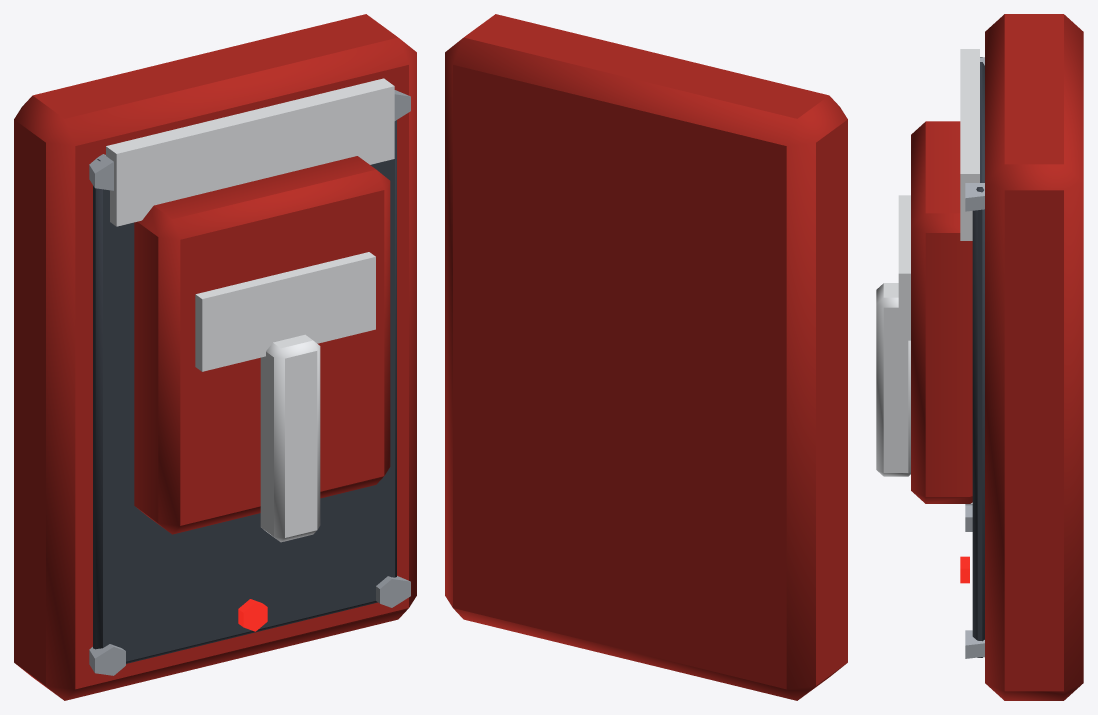
The model's file is controlpanel_fire_pull_station.glb.
The picture shows the model from 3 angles, left to right: view 1: azimuth 30°, elevation 25°; view 2: azimuth 150°, elevation 25°; view 3: azimuth 270°, elevation 25°; orthographic projection. The views are drawn at different scales.
Parts seen in each view (by area): view 1: controlpanel_fire_pull_station; view 2: controlpanel_fire_pull_station; view 3: controlpanel_fire_pull_station.
Boxes of the visible parts, x1,y1,x2,y2 form: controlpanel_fire_pull_station: [14, 14, 416, 700]; controlpanel_fire_pull_station: [445, 14, 847, 700]; controlpanel_fire_pull_station: [876, 14, 1083, 700].
Bounding box in the file's own units: 0.16 × 0.24 × 0.084.
